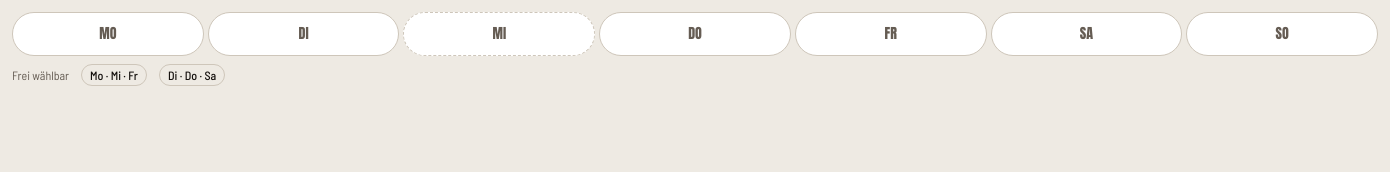
it: WeekdayChips › toggles several weekdays
Check: the text "Frei wählbar" is shown, box [12,67,69,83]
Click the button with aria-label "Montag" at [108, 34], box [12,12,204,56]
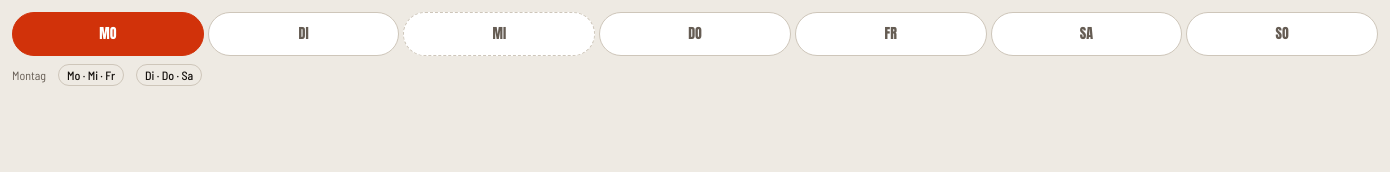
Click the button with aria-label "Freitag" at [891, 34], box [795,12,986,56]
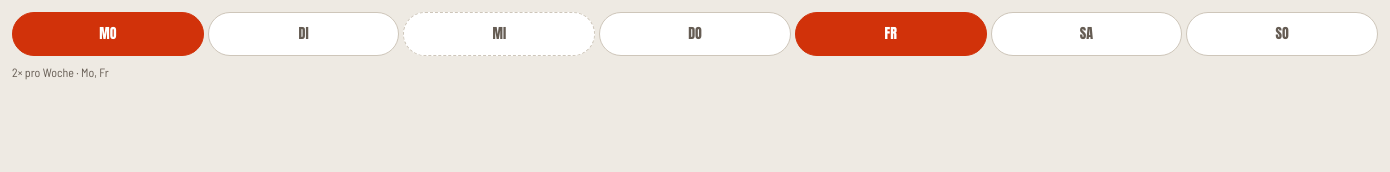
Check: the text "2× pro Woche · Mo, Fr" is shown, box [12,64,109,80]
Click the button with aria-label "Montag" at [108, 34], box [12,12,204,56]
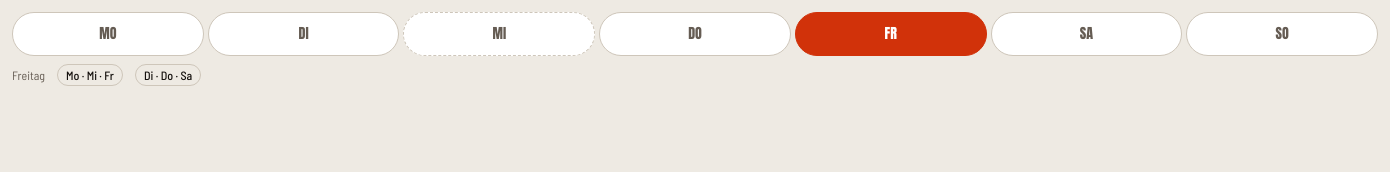
Check: the text "Freitag" is shown, box [12,67,45,83]
